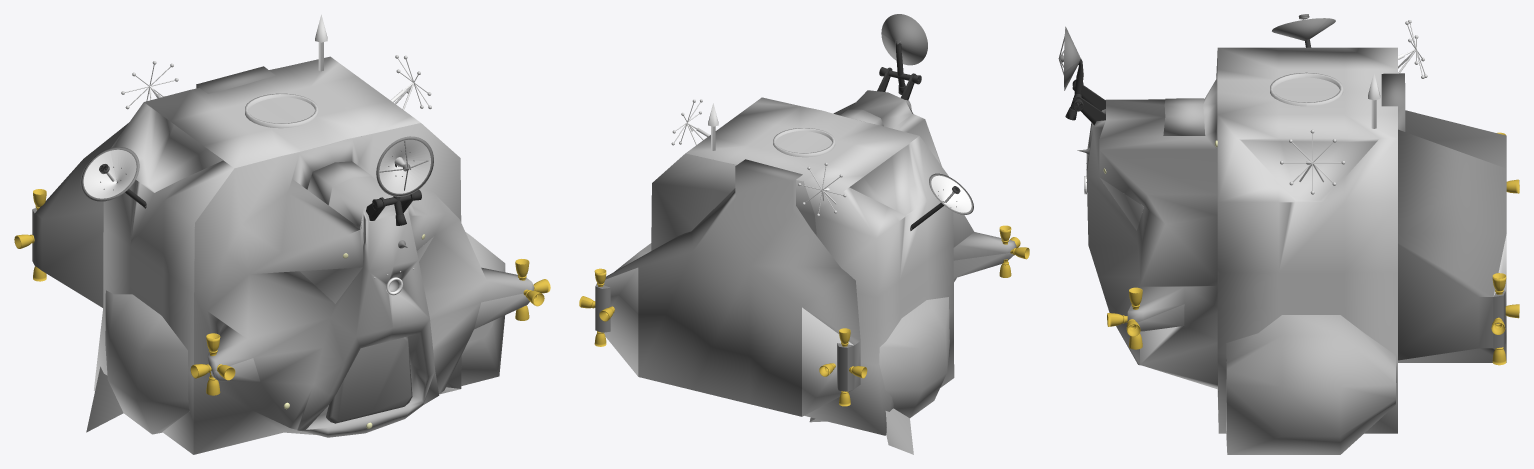
Rendered from ALMA.glb.
The picture shows the model from 3 angles, left to right: view 1: azimuth 30°, elevation 25°; view 2: azimuth 150°, elevation 25°; view 3: azimuth 270°, elevation 25°; orthographic projection. The views are drawn at different scales.
Parts seen in each view (by area): view 1: polySurfac, pCylinde10, pCube2, pCube27, pCylinder9, group51 g5, group51 14, pPipe1; view 2: polySurfac, pCube2, pCylinde10, group51 g5, group51 14, pCylinder5, pCylinder4, pPipe1; view 3: polySurfac, pCube2, pCylinder9, group51 14, pPipe1, group51 g5, pCylinder4.
Part boxes in pixels (x1,y1,x2,y2): polySurfac: (93, 56, 534, 454); pCylinde10: (86, 290, 189, 434); pCube2: (34, 66, 275, 307); pCube27: (326, 336, 412, 423); pCylinder9: (461, 232, 505, 385); group51 g5: (376, 136, 433, 196); group51 14: (80, 147, 139, 201); pPipe1: (245, 93, 318, 128); polySurfac: (651, 90, 1016, 435); pCube2: (604, 159, 860, 416); pCylinde10: (809, 297, 950, 454); group51 g5: (881, 14, 927, 65); group51 14: (929, 173, 973, 214); pCylinder5: (837, 343, 854, 391); pCylinder4: (595, 283, 610, 332); pPipe1: (773, 128, 835, 157); polySurfac: (1086, 47, 1397, 433); pCube2: (1381, 73, 1506, 362); pCylinder9: (1226, 315, 1396, 454); group51 14: (1272, 18, 1335, 40); pPipe1: (1270, 72, 1343, 106); group51 g5: (1064, 26, 1080, 90); pCylinder4: (1493, 290, 1505, 348).
Bounding box in the file's own units: 3.37 × 2.91 × 3.31.
